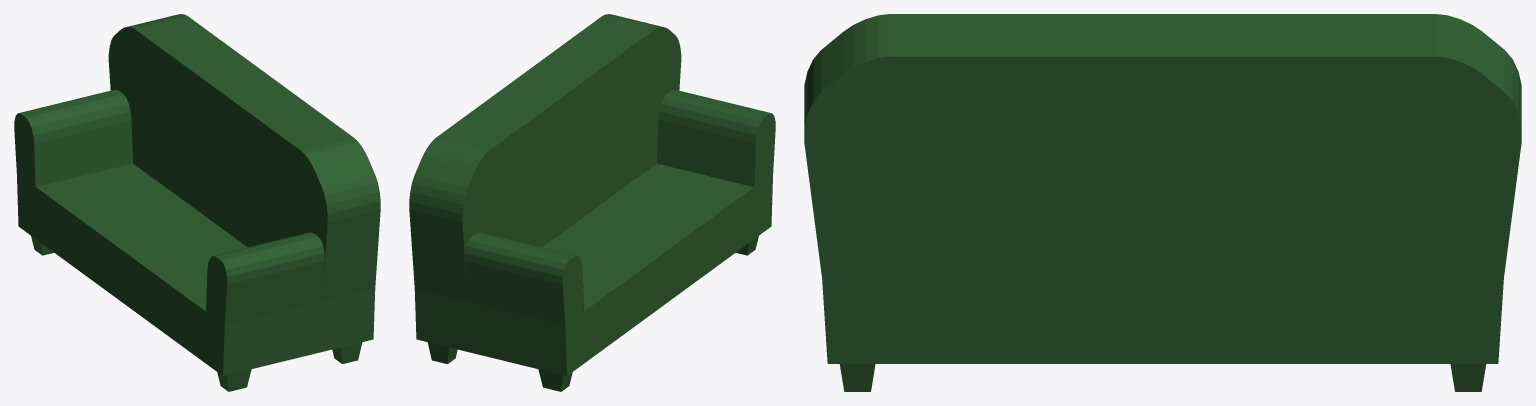
Rendered from Couch.fbx.
The picture shows the model from 3 angles, left to right: view 1: azimuth 30°, elevation 25°; view 2: azimuth 150°, elevation 25°; view 3: azimuth 270°, elevation 25°; orthographic projection. The views are drawn at different scales.
Parts seen in each view (by area): view 1: Couch; view 2: Couch; view 3: Couch.
Part boxes in pixels (<box>): Couch: <box>14,14,380,391</box>; Couch: <box>409,14,775,391</box>; Couch: <box>804,14,1521,391</box>.
Size of the model in its own units: 1683 by 2238 by 4235.
